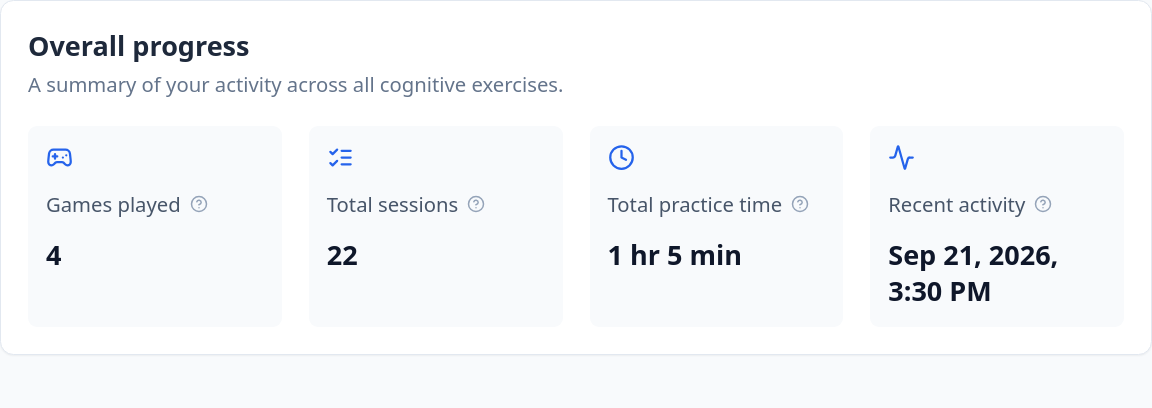
Test: OverallProgressCard › reveals a metric explanation when its help toggle is activated
The image size is (1152, 408).
Click the button named "what does games played mean" next to "Games played" at point(199, 204), box [187, 180, 210, 228]
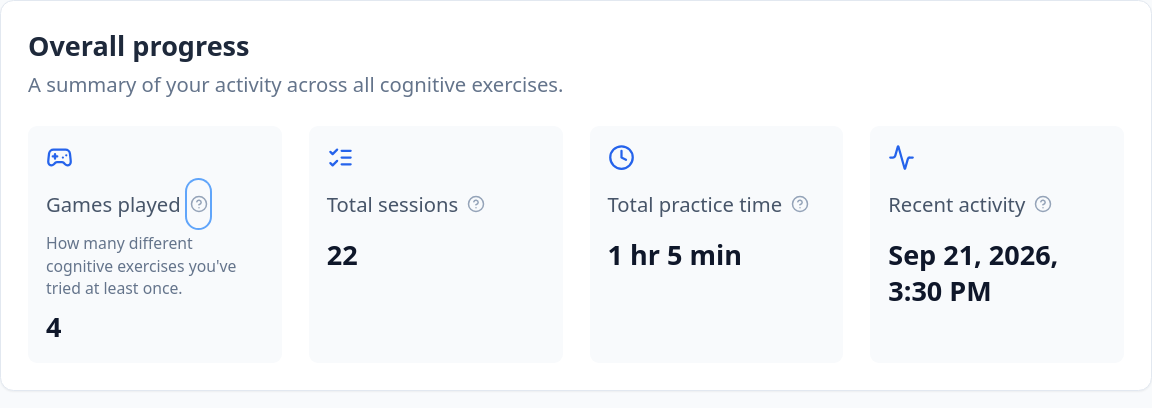
expect the text "How many different cognitive exercises" is shown: met, box [46, 232, 236, 299]
